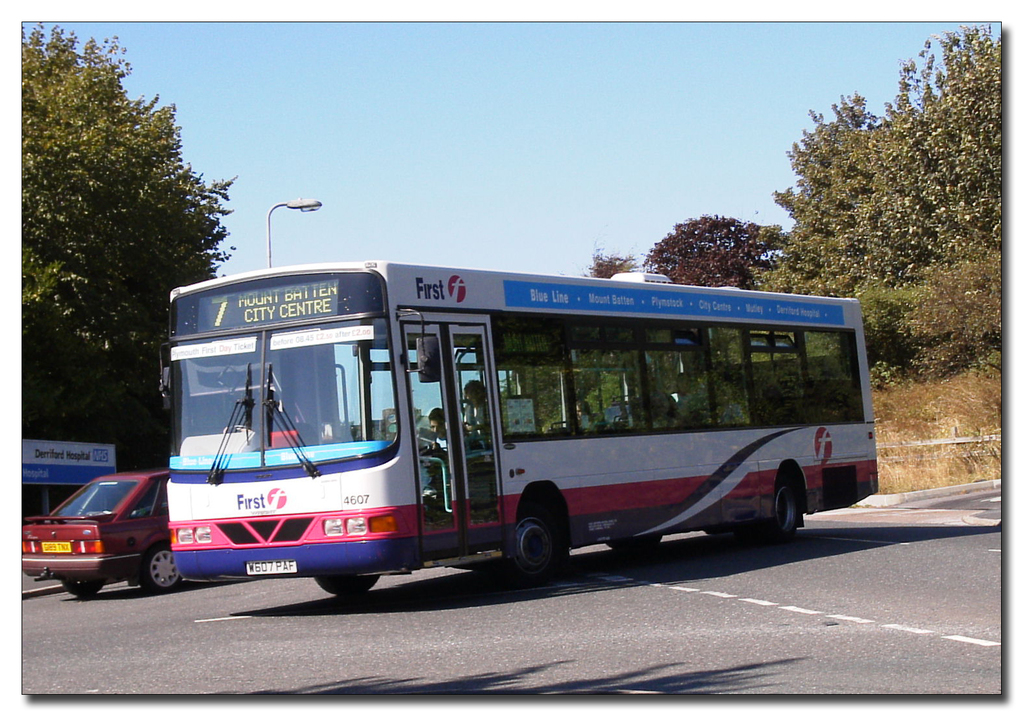Car: (26, 468, 177, 597)
